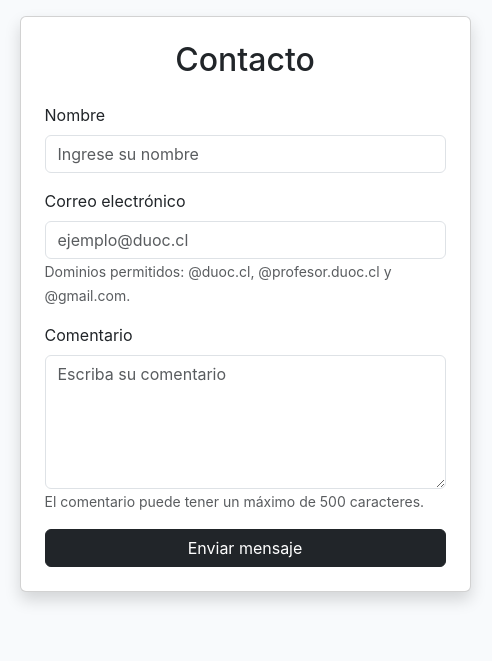
Test: Pruebas del módulo Acceso, Formularios y Cliente - Benjamin › debe enviar el formulario de contacto con datos válidos
In the field labelled "Nombre": point(245, 154) left=44, top=135, right=446, bottom=173, type "Manuel"
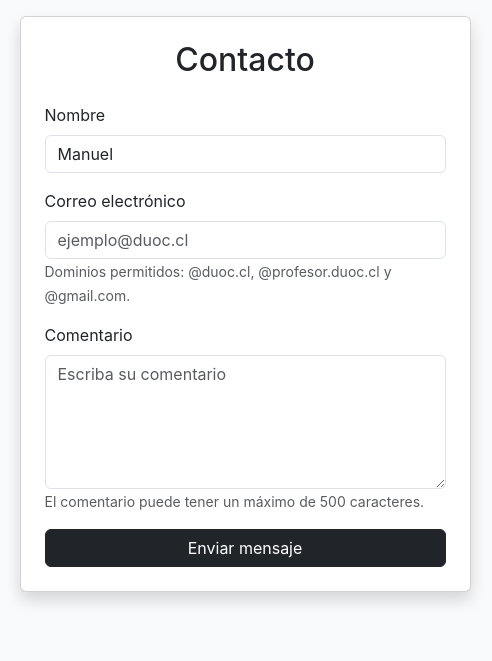
In the field labelled "Correo electrónico": point(245, 240) left=44, top=221, right=446, bottom=259, type "prueba@gmail.com"
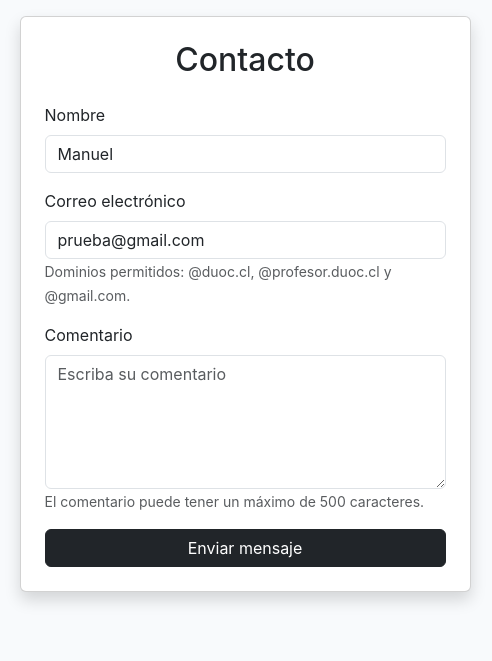
In the text box labelled "Comentario": point(245, 422) left=44, top=355, right=446, bottom=489, type "Necesito información sobre un producto."
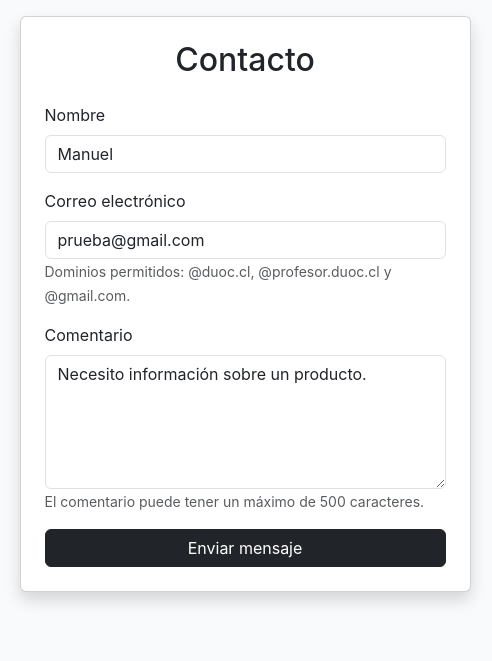
Click the button "Enviar mensaje": point(245, 548) left=44, top=529, right=446, bottom=567
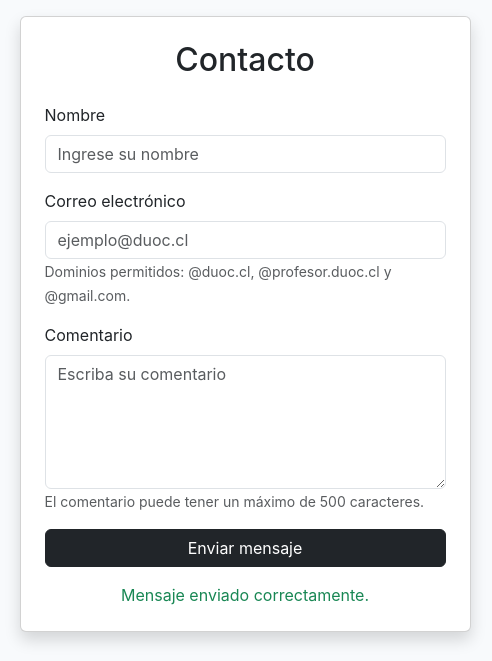
Check: the text "Mensaje enviado correctamente." is shown, box left=121, top=585, right=369, bottom=605
